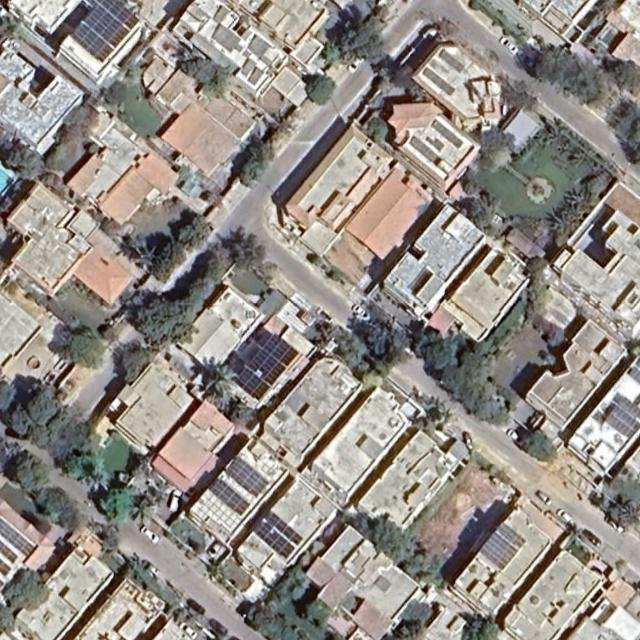solar panel: (253, 511, 305, 560), (85, 5, 130, 48), (70, 22, 115, 64), (224, 457, 269, 498), (208, 478, 253, 517), (245, 349, 286, 387), (479, 532, 518, 571), (0, 518, 36, 558), (97, 0, 139, 30), (210, 23, 247, 57), (264, 333, 299, 367), (235, 368, 270, 401), (605, 406, 640, 439), (247, 34, 279, 66), (430, 120, 464, 150), (422, 68, 455, 96), (496, 522, 527, 549), (408, 137, 438, 163), (614, 394, 640, 419), (439, 50, 466, 73), (0, 541, 19, 565), (212, 6, 231, 25), (425, 134, 445, 152), (239, 58, 257, 77), (248, 69, 263, 86), (0, 560, 13, 579), (628, 367, 640, 385)
